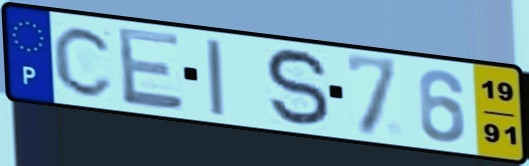6: (416, 66, 467, 144)
7: (344, 50, 403, 141)
C: (50, 23, 117, 100)
E: (114, 24, 187, 113)
I: (203, 37, 228, 119)
S: (263, 46, 334, 130)
